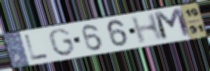6: (106, 19, 130, 48), (81, 23, 105, 52)
G: (48, 27, 77, 57)
H: (130, 11, 165, 46)
L: (23, 33, 50, 61)
M: (152, 7, 194, 43)
